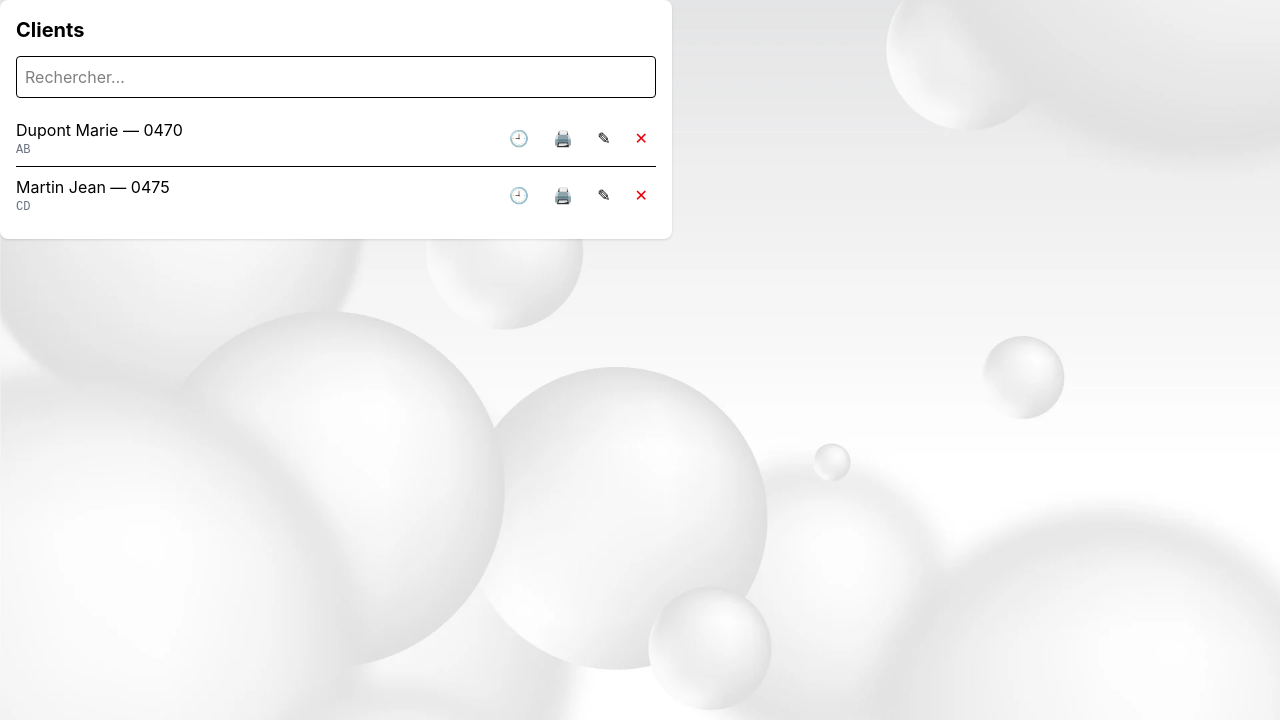
it: Clients › suppression réussie : le message annonce les commandes conservées
Click the button named "Supprimer le client" at (641, 138), box [627,122,656,154]
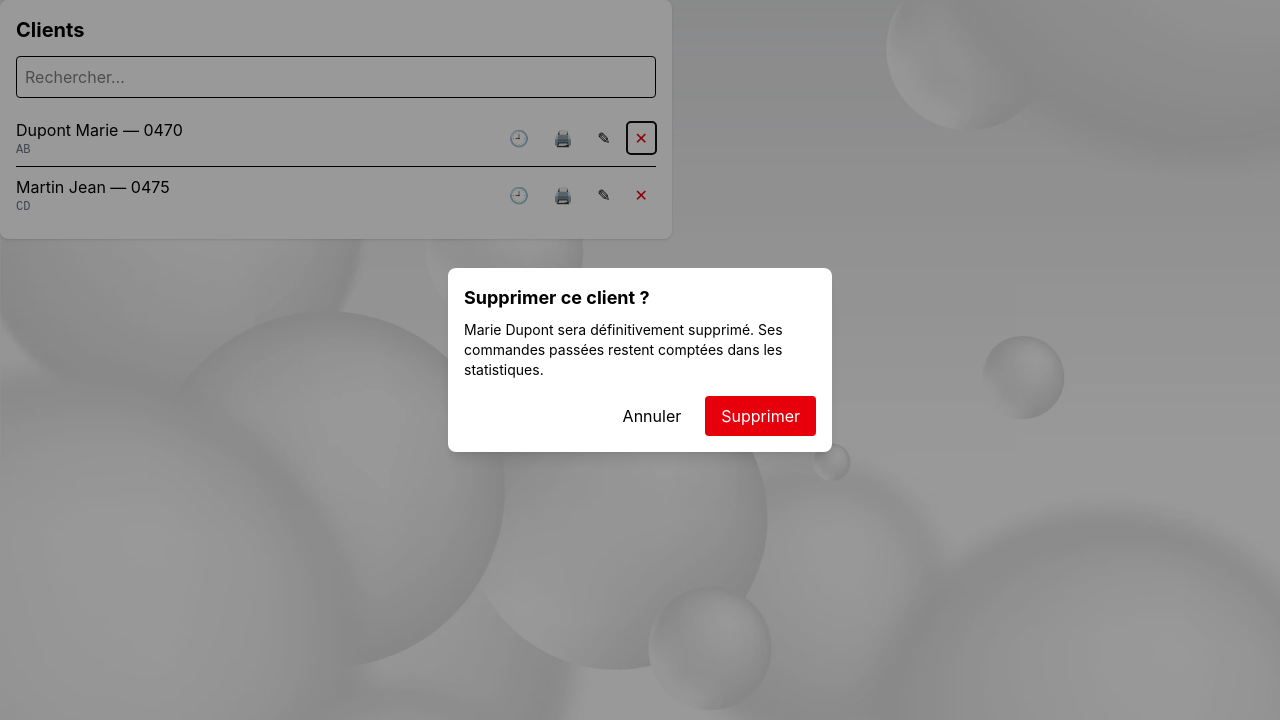
Click the button "Supprimer" at (761, 416), box [705,396,816,436]
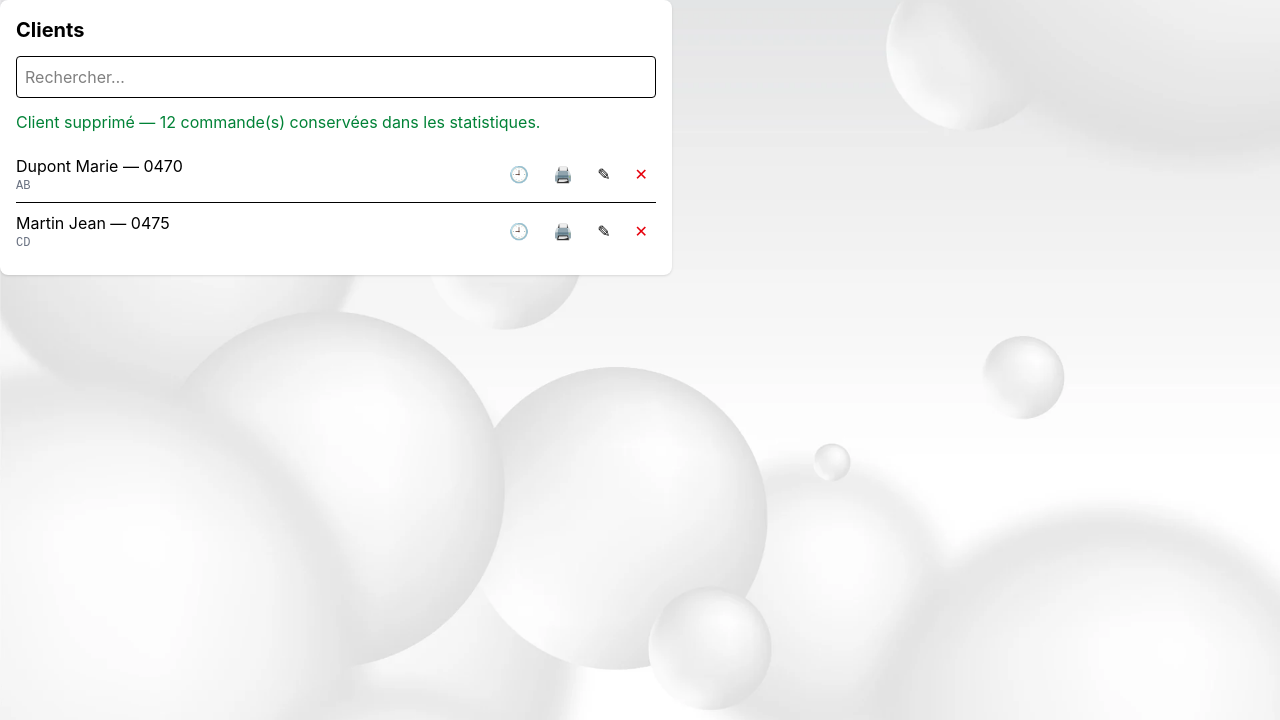
Expected: the text "12 commande(s) conservées dans les statistiques" is shown, [16,112,540,132]
